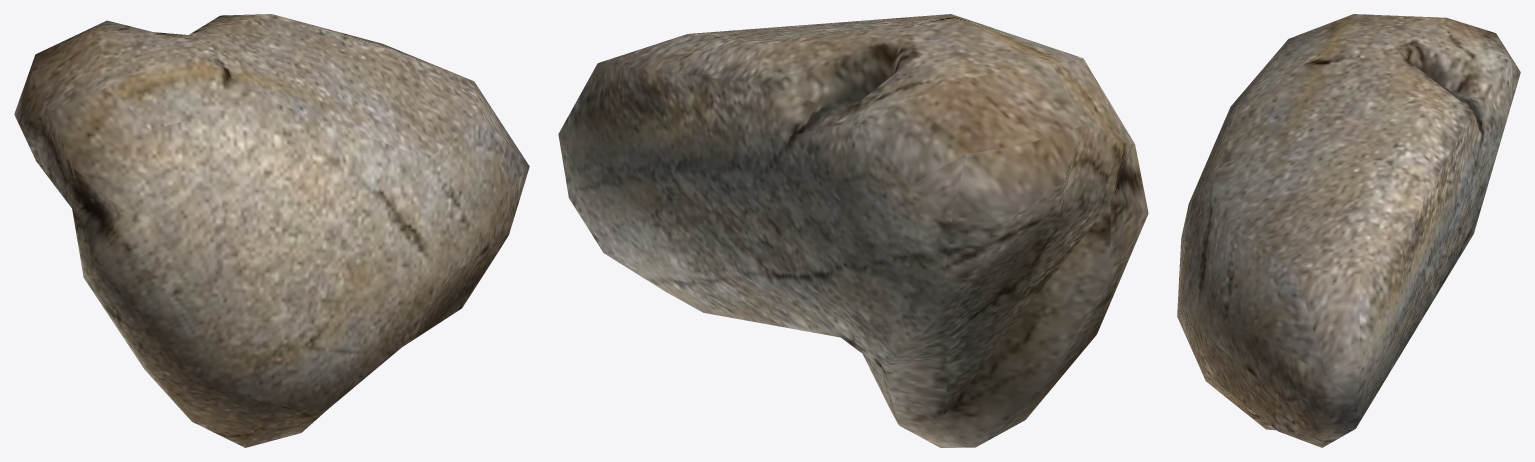
Rendered from rock.glb.
The picture shows the model from 3 angles, left to right: view 1: azimuth 30°, elevation 25°; view 2: azimuth 150°, elevation 25°; view 3: azimuth 270°, elevation 25°; orthographic projection. The views are drawn at different scales.
Parts seen in each view (by area): view 1: rock012_lod4; view 2: rock012_lod4; view 3: rock012_lod4.
Part boxes in pixels (x1,y1,x2,y2): rock012_lod4: (14,14,529,447); rock012_lod4: (558,14,1148,447); rock012_lod4: (1177,14,1520,447).
Bounding box in the file's own units: 1 × 0.782 × 0.6623.
1 material, 1 textured.
